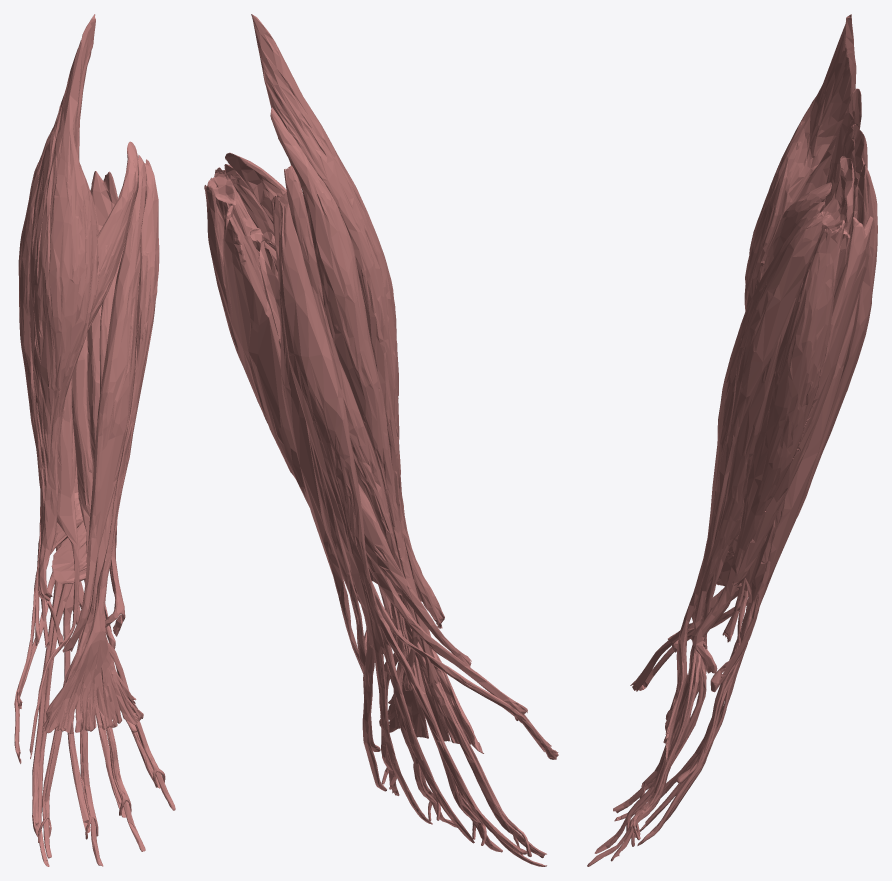
File: forearm-muscle.glb
The picture shows the model from 3 angles, left to right: view 1: azimuth 30°, elevation 25°; view 2: azimuth 150°, elevation 25°; view 3: azimuth 270°, elevation 25°; orthographic projection. The views are drawn at different scales.
Visible parts, largest first — view 1: brachioradialis__BP4833, palmaris-longus__BP4839, flexor-carpi-radialis__BP4841, flexor-digitorum-profundus__BP4848, flexor-digitorum-superficialis__BP4837, extensor-digitorum__BP4827, flexor-pollicis-longus__BP4844, extensor-carpi-radialis-longus__BP4831, pronator-teres-humeral-head__BP5568, pronator-quadratus__BP4846, extensor-indicis__BP4812, flexor-carpi-ulnaris-humeral-head__BP5570 (+4 smaller); view 2: extensor-digitorum__BP4827, brachioradialis__BP4833, extensor-carpi-radialis-longus__BP4831, flexor-carpi-ulnaris-ulnar-head__BP5554, extensor-carpi-radialis-brevis__BP4823, flexor-digitorum-profundus__BP4848, extensor-carpi-ulnaris__BP4829, flexor-digitorum-superficialis__BP4837, palmaris-longus__BP4839, abductor-pollicis-longus__BP4820, extensor-digiti-minimi__BP4825, extensor-pollicis-brevis__BP4818 (+4 smaller); view 3: flexor-carpi-ulnaris-humeral-head__BP5570, palmaris-longus__BP4839, brachioradialis__BP4833, flexor-digitorum-superficialis__BP4837, flexor-carpi-ulnaris-ulnar-head__BP5554, extensor-digitorum__BP4827, extensor-carpi-ulnaris__BP4829, flexor-digitorum-profundus__BP4848, flexor-carpi-radialis__BP4841, extensor-carpi-radialis-longus__BP4831, supinator__BP4814, extensor-digiti-minimi__BP4825 (+5 smaller).
Boxes of the visible parts, bbox=[...] form: brachioradialis__BP4833: bbox=[29, 14, 99, 604]; palmaris-longus__BP4839: bbox=[43, 159, 159, 733]; flexor-carpi-radialis__BP4841: bbox=[62, 155, 146, 652]; flexor-digitorum-profundus__BP4848: bbox=[42, 304, 175, 866]; flexor-digitorum-superficialis__BP4837: bbox=[38, 215, 165, 842]; extensor-digitorum__BP4827: bbox=[32, 544, 160, 836]; flexor-pollicis-longus__BP4844: bbox=[29, 374, 79, 758]; extensor-carpi-radialis-longus__BP4831: bbox=[18, 128, 52, 648]; pronator-teres-humeral-head__BP5568: bbox=[87, 141, 138, 330]; pronator-quadratus__BP4846: bbox=[51, 491, 86, 583]; extensor-indicis__BP4812: bbox=[37, 583, 73, 866]; flexor-carpi-ulnaris-humeral-head__BP5570: bbox=[105, 356, 147, 636]; extensor-digitorum__BP4827: bbox=[278, 192, 527, 854]; brachioradialis__BP4833: bbox=[251, 14, 444, 628]; extensor-carpi-radialis-longus__BP4831: bbox=[270, 107, 440, 687]; flexor-carpi-ulnaris-ulnar-head__BP5554: bbox=[223, 205, 328, 533]; extensor-carpi-radialis-brevis__BP4823: bbox=[284, 164, 418, 690]; flexor-digitorum-profundus__BP4848: bbox=[258, 241, 546, 858]; extensor-carpi-ulnaris__BP4829: bbox=[271, 193, 362, 672]; flexor-digitorum-superficialis__BP4837: bbox=[208, 168, 531, 856]; palmaris-longus__BP4839: bbox=[214, 167, 483, 753]; abductor-pollicis-longus__BP4820: bbox=[358, 483, 471, 667]; extensor-digiti-minimi__BP4825: bbox=[309, 432, 380, 751]; extensor-pollicis-brevis__BP4818: bbox=[366, 552, 527, 720]; flexor-carpi-ulnaris-humeral-head__BP5570: bbox=[690, 220, 845, 673]; palmaris-longus__BP4839: bbox=[663, 211, 823, 763]; brachioradialis__BP4833: bbox=[744, 14, 856, 311]; flexor-digitorum-superficialis__BP4837: bbox=[626, 214, 829, 846]; flexor-carpi-ulnaris-ulnar-head__BP5554: bbox=[732, 216, 873, 586]; extensor-digitorum__BP4827: bbox=[637, 157, 877, 845]; extensor-carpi-ulnaris__BP4829: bbox=[710, 163, 868, 692]; flexor-digitorum-profundus__BP4848: bbox=[587, 512, 741, 866]; flexor-carpi-radialis__BP4841: bbox=[691, 201, 824, 625]; extensor-carpi-radialis-longus__BP4831: bbox=[722, 88, 861, 642]; supinator__BP4814: bbox=[822, 156, 854, 295]; extensor-digiti-minimi__BP4825: bbox=[676, 177, 858, 783].
Size of the model in its own units: 1.42 by 4.82 by 1.42.
